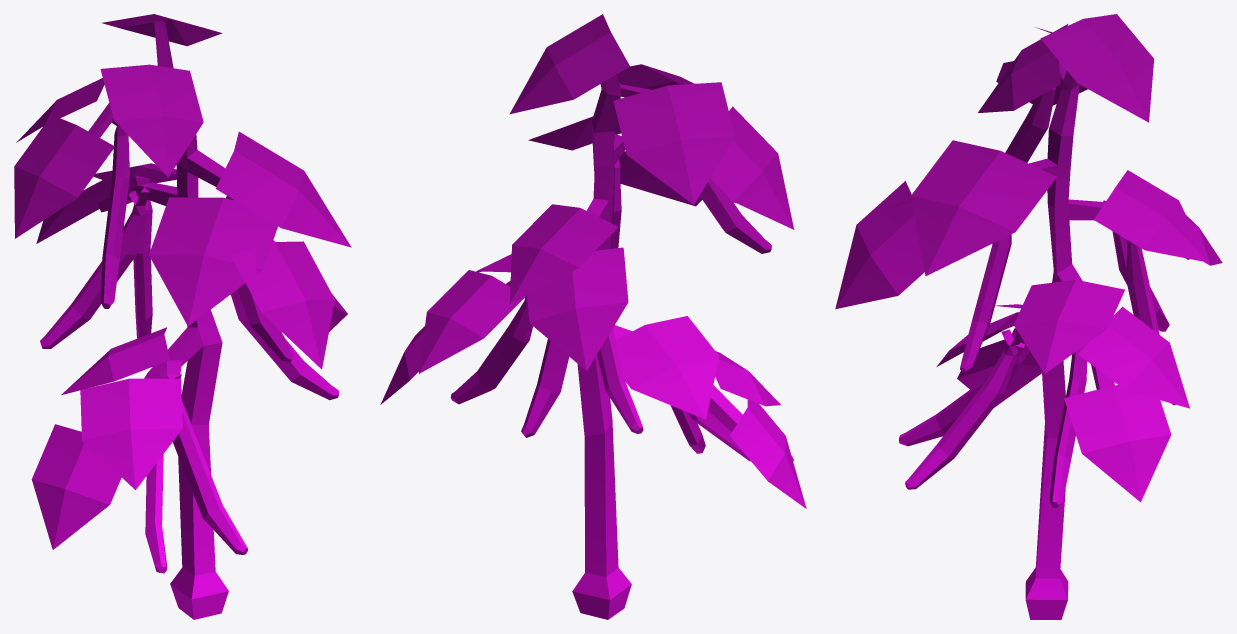
Rendered from SM_Prop_Plant_Bush_01_Bean.fbx.
The picture shows the model from 3 angles, left to right: view 1: azimuth 30°, elevation 25°; view 2: azimuth 150°, elevation 25°; view 3: azimuth 270°, elevation 25°; orthographic projection. The views are drawn at different scales.
Visible parts, largest first — view 1: SM_Prop_Plant_Bush_01_Bean; view 2: SM_Prop_Plant_Bush_01_Bean; view 3: SM_Prop_Plant_Bush_01_Bean.
Part boxes in pixels (x1,y1,x2,y2): SM_Prop_Plant_Bush_01_Bean: (14, 14, 351, 619); SM_Prop_Plant_Bush_01_Bean: (380, 14, 806, 619); SM_Prop_Plant_Bush_01_Bean: (835, 14, 1222, 619).
Size of the model in its own units: 62.71 by 98.88 by 59.72.
